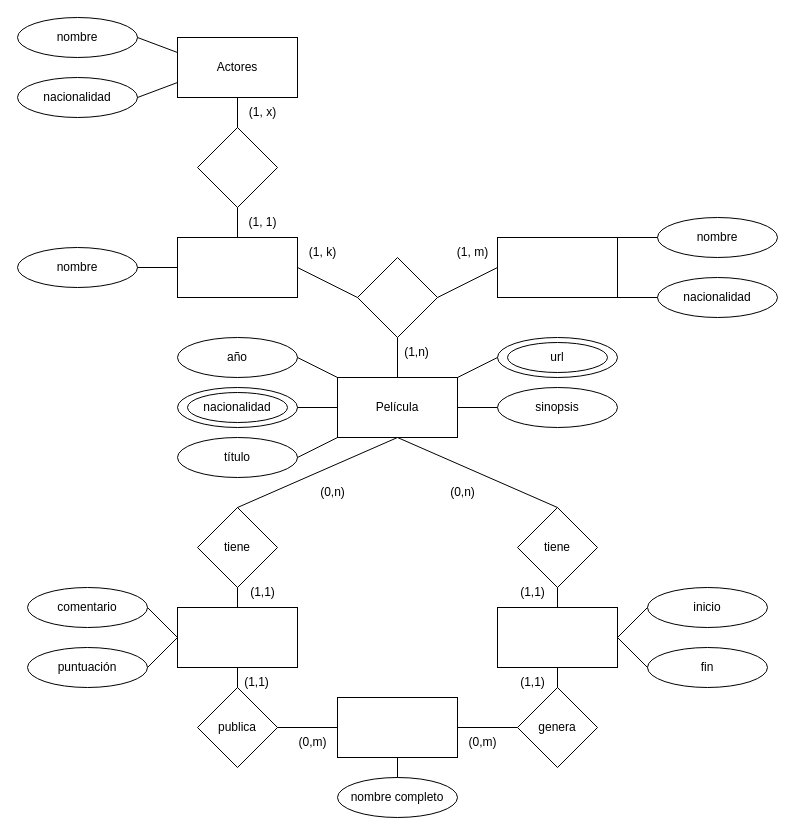
The diagram is 795 pixels wide and 835 high, and some of its shapes have lost their labels. Here are the shapes that lost their labels. From the top down, the box of each, then its label:
(196, 126, 278, 208): interpreta
(176, 236, 298, 298): Personaje
(496, 236, 618, 298): Director
(356, 256, 438, 338): compuesta
(176, 606, 298, 668): valoración
(496, 606, 618, 668): vizualizacón
(336, 696, 458, 758): usuario
